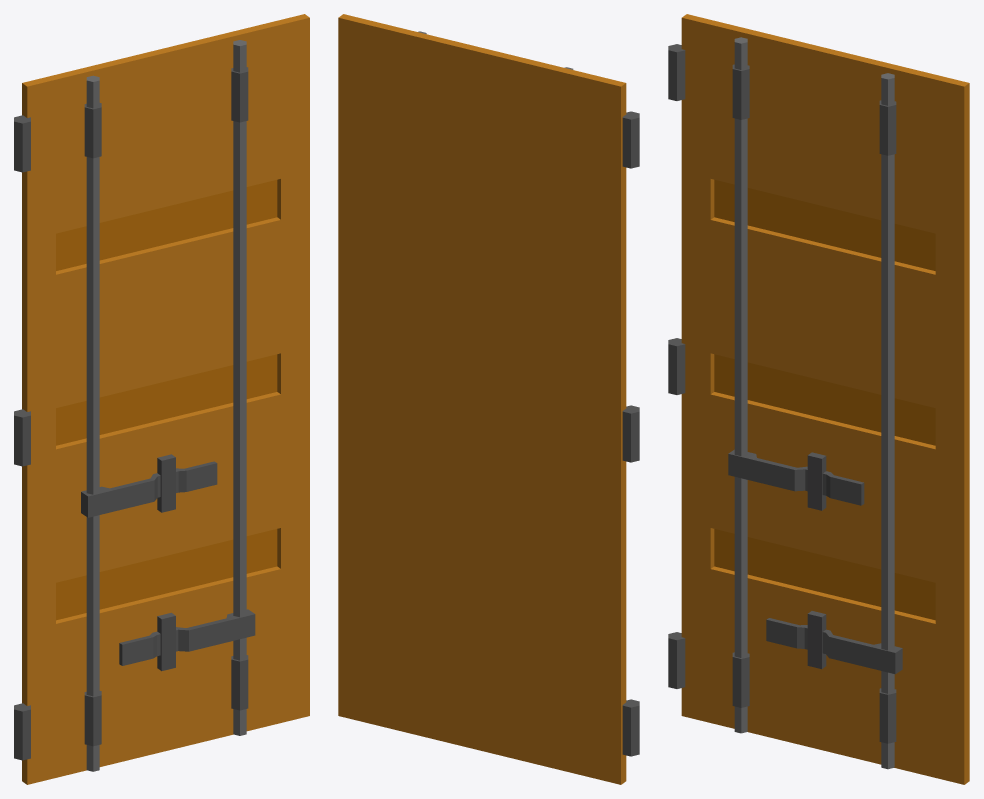
The model's file is SM_Props_ShippingContainer_Door2_L.glb.
3 renders of one model, left to right at view 1: azimuth 30°, elevation 25°; view 2: azimuth 150°, elevation 25°; view 3: azimuth 330°, elevation 25°, orthographic.
Visible parts, largest first — view 1: SM_Props_ShippingContainer_Door2_L; view 2: SM_Props_ShippingContainer_Door2_L; view 3: SM_Props_ShippingContainer_Door2_L.
Part boxes in pixels (x1,y1,x2,y2): SM_Props_ShippingContainer_Door2_L: (14,14,309,784); SM_Props_ShippingContainer_Door2_L: (338,14,639,784); SM_Props_ShippingContainer_Door2_L: (668,14,969,784).
Bounding box in the file's own units: 1.17 × 2.63 × 0.0859.
Materials: 1 (1 with a texture image).
